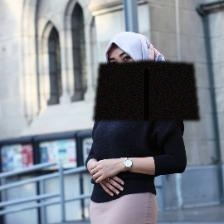Cadar_Niqab: (93, 30, 200, 120)
